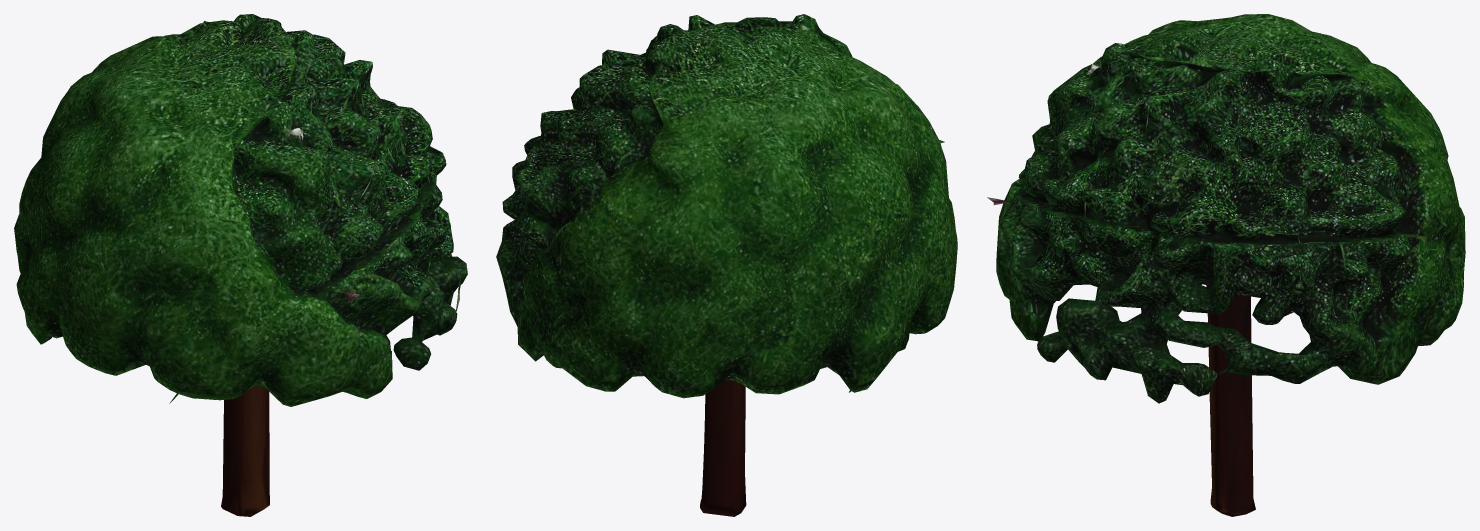
Rendered from roundtree-5.glb.
The picture shows the model from 3 angles, left to right: view 1: azimuth 30°, elevation 25°; view 2: azimuth 150°, elevation 25°; view 3: azimuth 270°, elevation 25°; orthographic projection.
Parts seen in each view (by area): view 1: tripo_node_43b3e07f-1940-45dd-9af0-6ab188e121ea; view 2: tripo_node_43b3e07f-1940-45dd-9af0-6ab188e121ea; view 3: tripo_node_43b3e07f-1940-45dd-9af0-6ab188e121ea.
Boxes of the visible parts, left/top/right/bottom form: tripo_node_43b3e07f-1940-45dd-9af0-6ab188e121ea: left=14, top=14, right=467, bottom=516; tripo_node_43b3e07f-1940-45dd-9af0-6ab188e121ea: left=496, top=14, right=957, bottom=516; tripo_node_43b3e07f-1940-45dd-9af0-6ab188e121ea: left=987, top=14, right=1465, bottom=516.
Bounding box in the file's own units: 0.8732 × 1 × 0.9279.
1 material, 1 textured.
